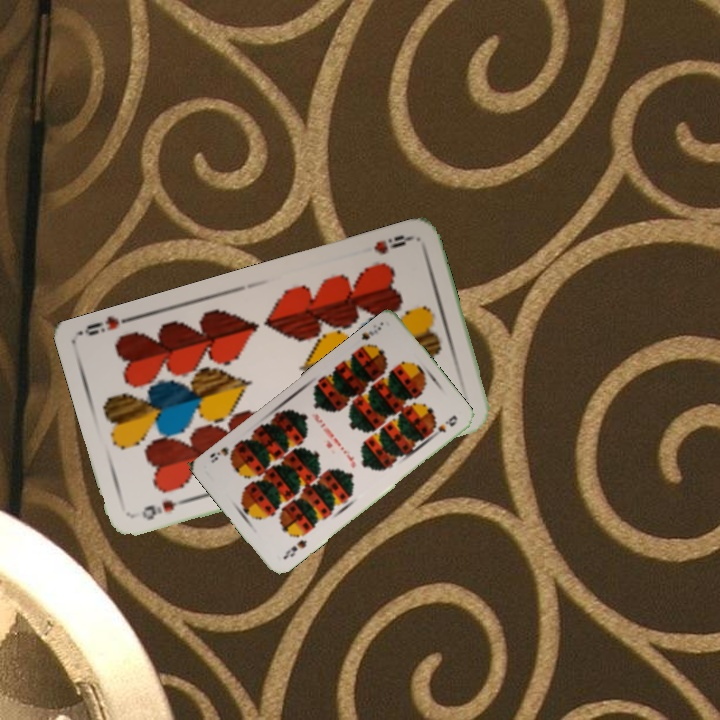H9: (138, 494, 189, 523), (370, 230, 414, 257)
S9: (354, 322, 384, 353), (279, 536, 310, 562)
